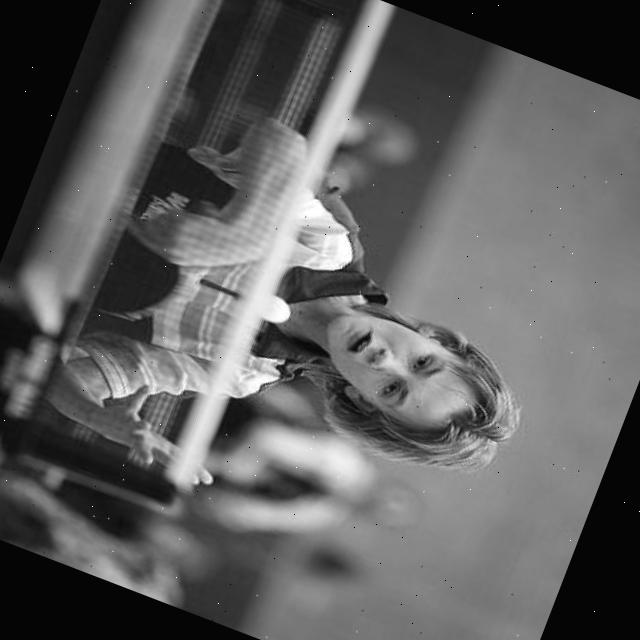ping-pong-ball: (250, 290, 296, 326)
